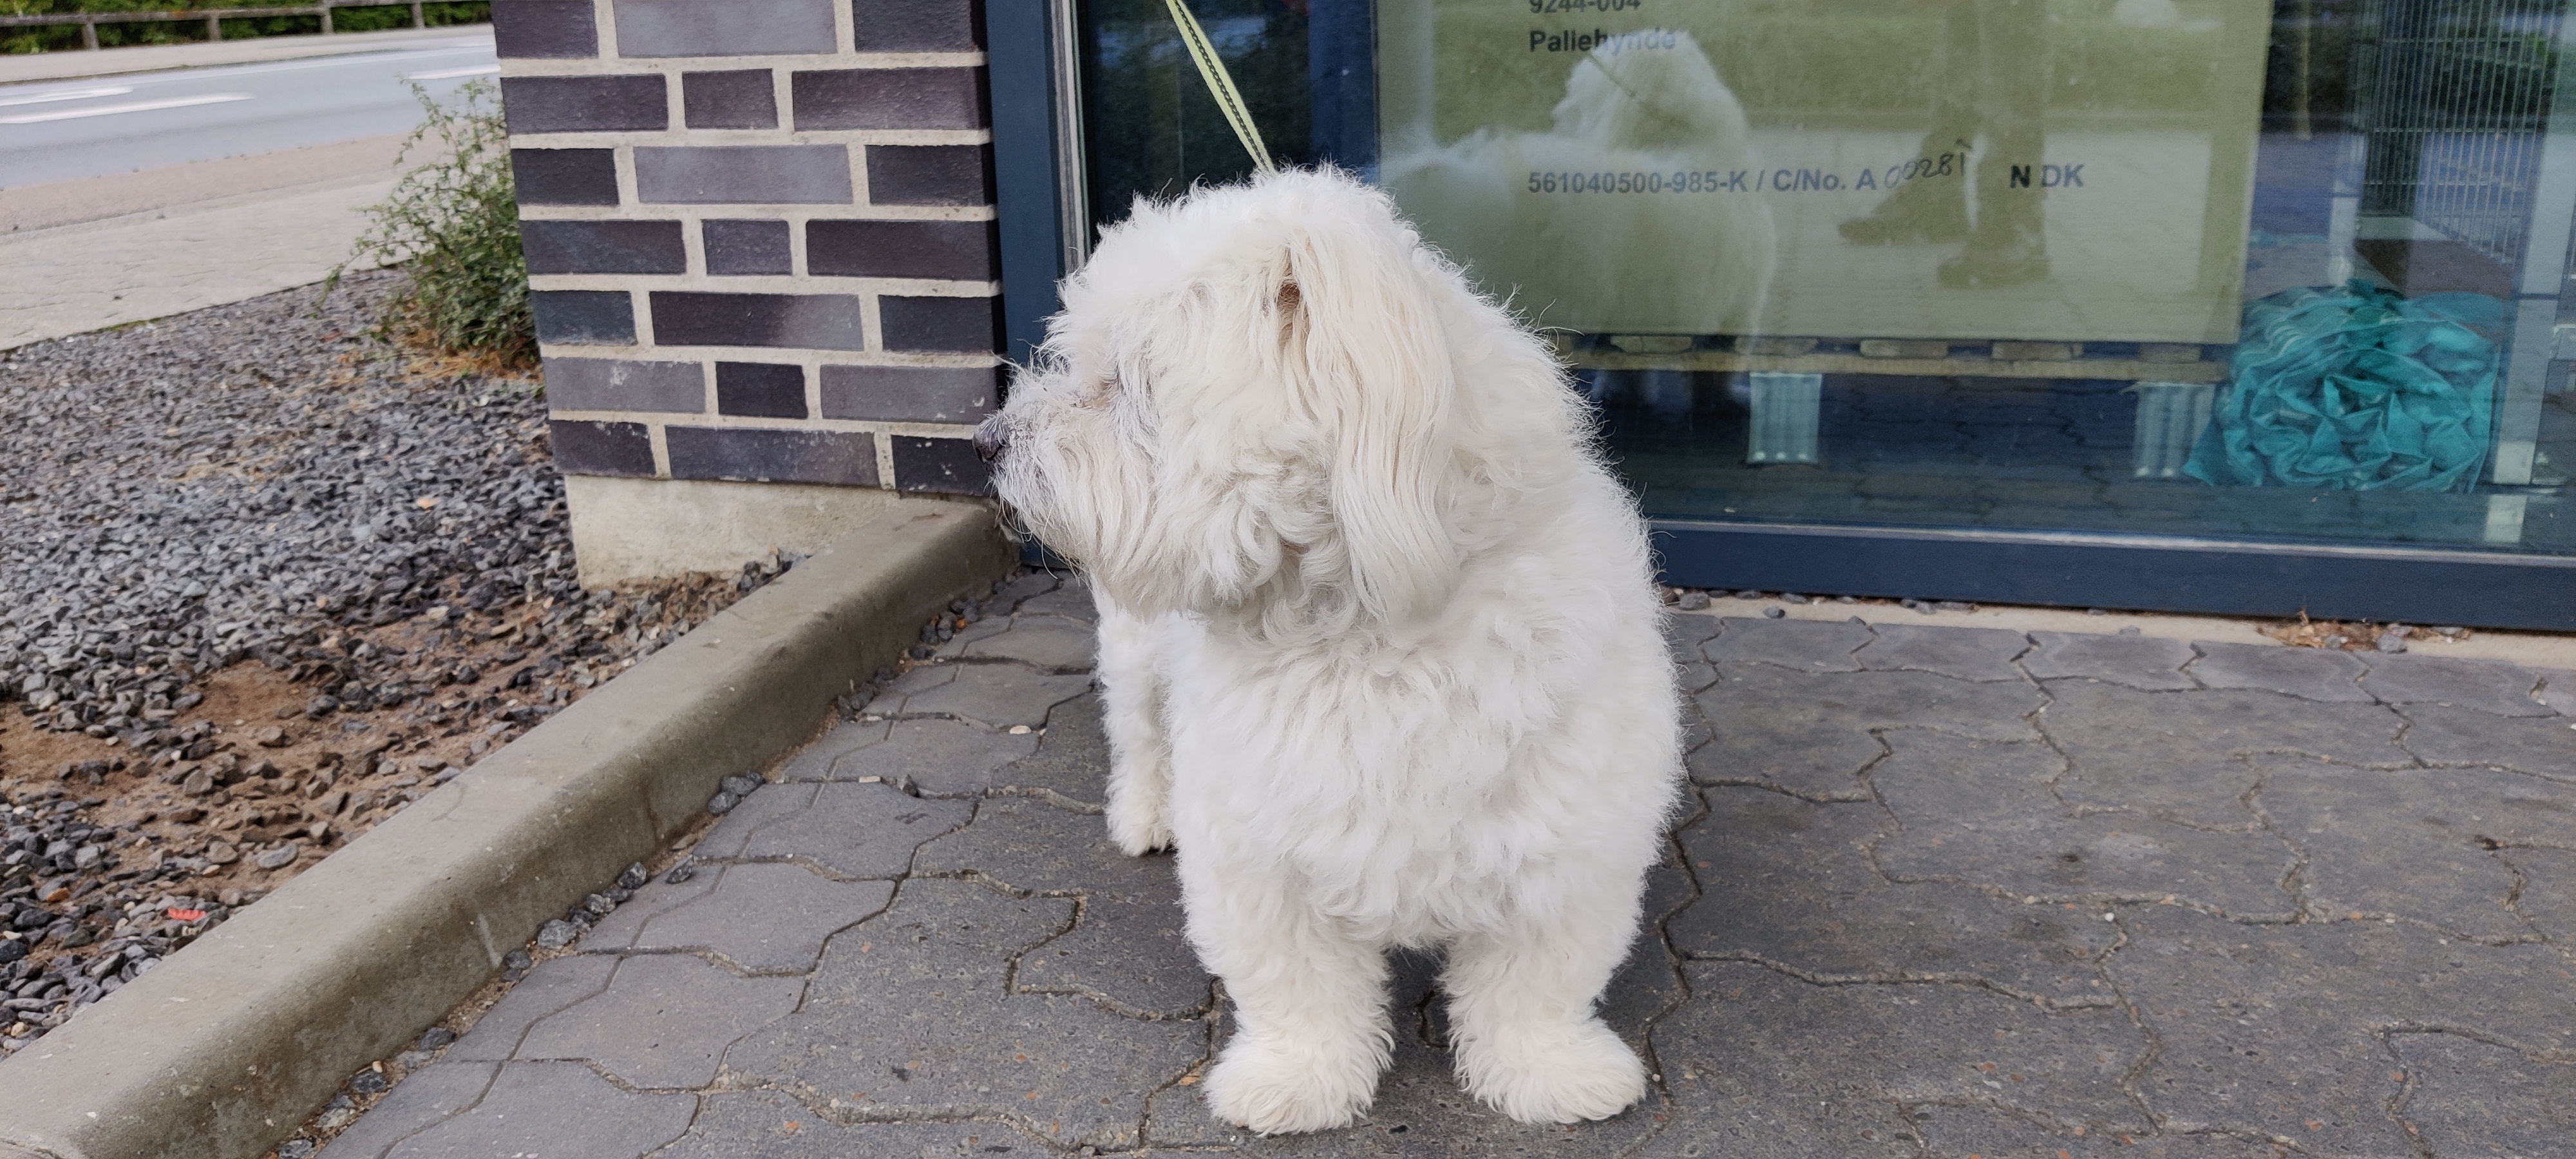Dog: (964, 156, 1725, 1146)
